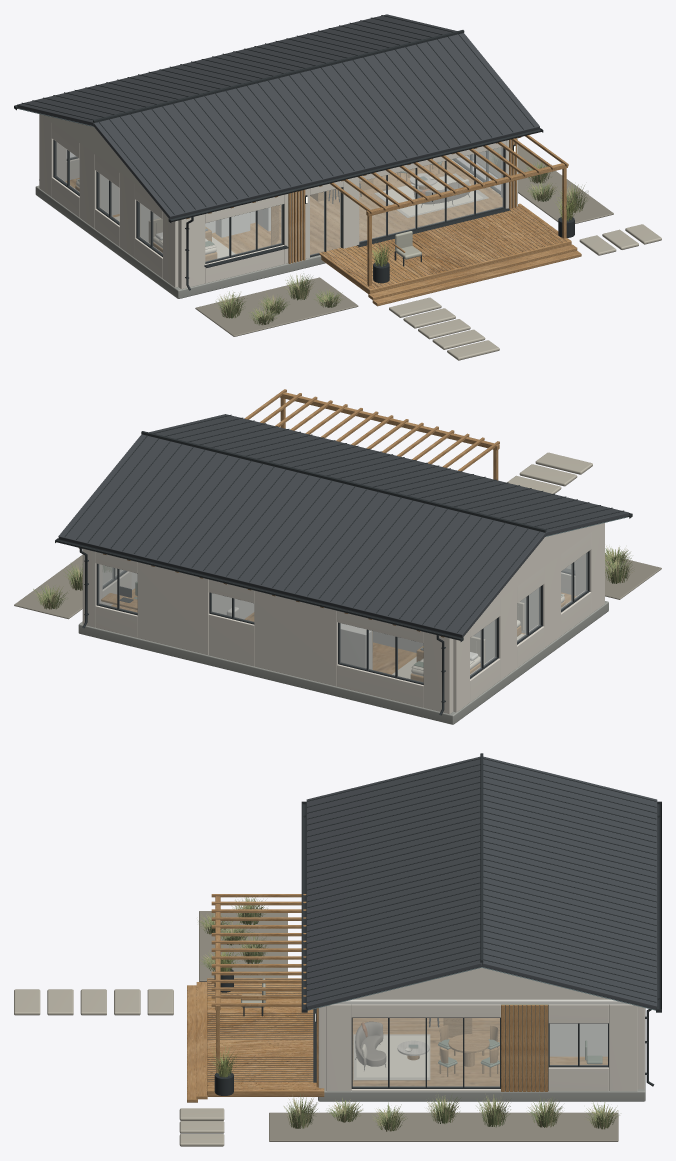
Rendered from living-studio.glb.
The picture shows the model from 3 angles, top to bottom: view 1: azimuth 30°, elevation 25°; view 2: azimuth 150°, elevation 25°; view 3: azimuth 270°, elevation 25°; orthographic projection. The views are drawn at different scales.
Visible parts, largest first — view 1: studio house opaque surfaces, south facade glass.002, south facade glass, south facade glass.001, west facade glass, west facade glass.002, west facade glass.001, east facade glass; view 2: studio house opaque surfaces, north facade glass, north facade glass.002, west facade glass, west facade glass.002, west facade glass.001, north facade glass.001; view 3: studio house opaque surfaces, east facade glass, east facade glass.001.
Boxes of the visible parts, x1,y1,x2,y2 form: studio house opaque surfaces: (14, 14, 661, 360); south facade glass.002: (359, 147, 503, 241); south facade glass: (205, 204, 282, 261); south facade glass.001: (310, 189, 340, 255); west facade glass: (138, 202, 162, 254); west facade glass.002: (55, 141, 79, 193); west facade glass.001: (98, 172, 119, 222); east facade glass: (456, 148, 500, 191); studio house opaque surfaces: (14, 389, 661, 724); north facade glass: (340, 623, 423, 682); north facade glass.002: (98, 564, 137, 613); west facade glass: (561, 552, 587, 609); west facade glass.002: (470, 619, 496, 676); west facade glass.001: (517, 587, 540, 641); north facade glass.001: (211, 593, 254, 622); studio house opaque surfaces: (14, 753, 661, 1146); east facade glass: (352, 1018, 499, 1086); east facade glass.001: (549, 1023, 607, 1065).
Bounding box in the file's own units: 18.22 × 5.2 × 20.38.
Materials: 40 (3 with a texture image).
